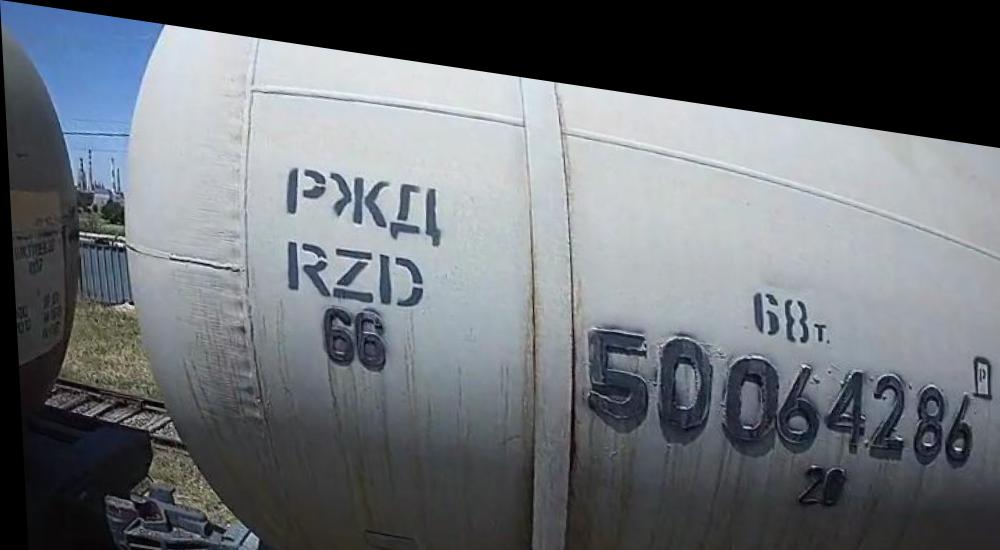Wagon-number: (574, 296, 978, 463)
